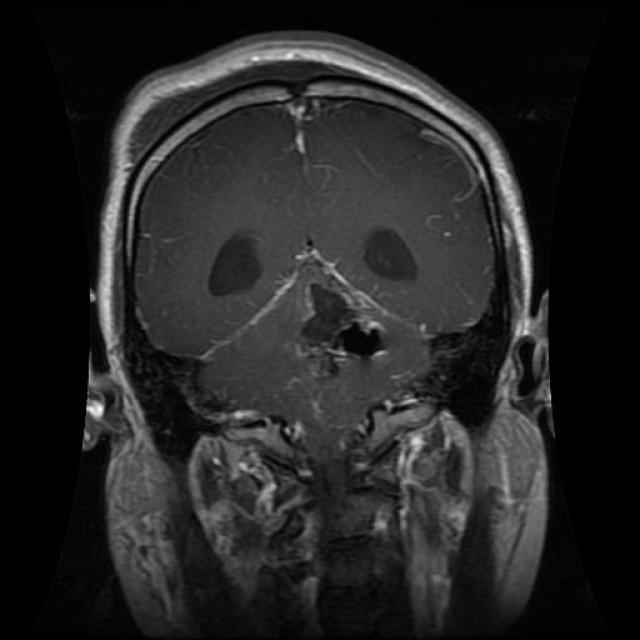glioma: (355, 215, 421, 288), (206, 231, 270, 299)
